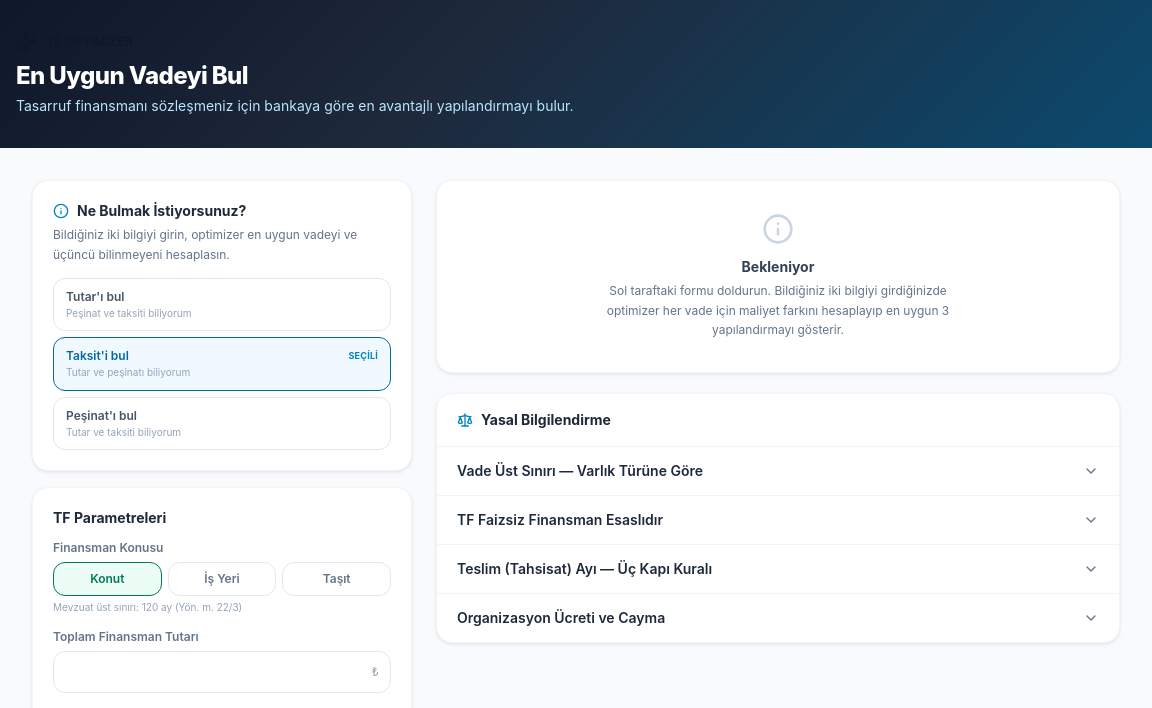
OptimizerClient — mount + mode selector › switching to "Tutar'ı bul" disables tutar input instead
What coordinates should you click on to do the following:
click the text "Tutar'ı bul"
I would click on:
 (95, 297)
Its box is [66,289,124,305].
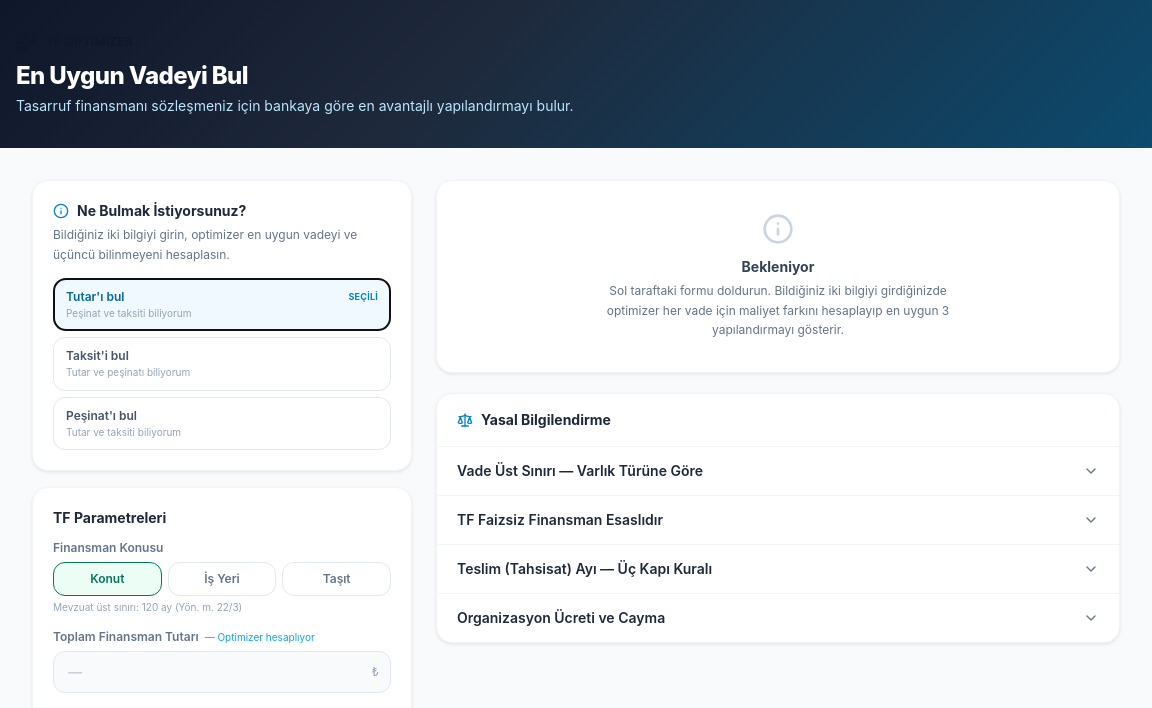
Now the text "Toplam Finansman Tutarı— Optimizer hesaplıyor" is shown, box [53,630,315,644]
